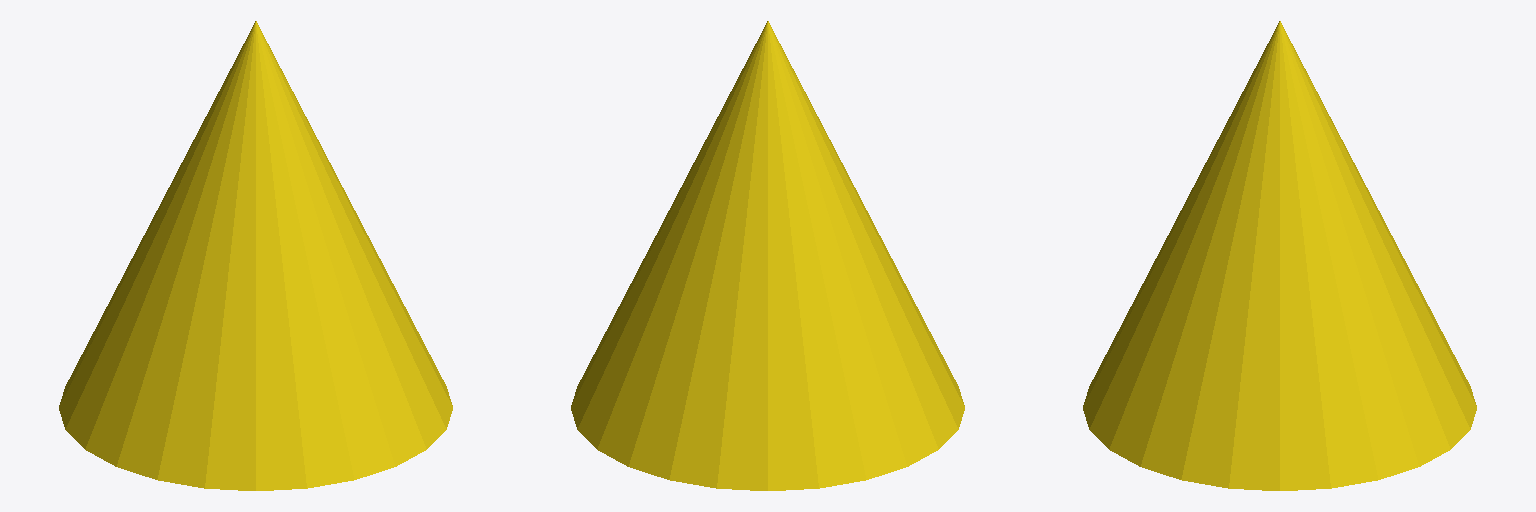
robot.urdf — yellow_cone:
<?xml version="1.0"?>
<robot name="yellow_cone">
  <link name="base_link">
    <contact>
      <lateral_friction value="0.9"/>
      <rolling_friction value="0.08"/>
      <spinning_friction value="0.06"/>
      <restitution value="0.0"/>
    </contact>
    <inertial>
      <origin rpy="0 0 0" xyz="0 0 0"/>
      <mass value="0.5"/>
      <inertia ixx="0.001" ixy="0" ixz="0" iyy="0.001" iyz="0" izz="0.001"/>
    </inertial>
    <visual>
      <origin rpy="0 0 0" xyz="0 0 0"/>
      <geometry>
        <mesh filename="cone.obj" scale="1 1 1"/>
      </geometry>
      <material name="yellow">
        <color rgba="0.950 0.850 0.120 1.000"/>
      </material>
    </visual>
    <collision>
      <origin rpy="0 0 0" xyz="0 0 0"/>
      <geometry>
        <mesh filename="cone.obj" scale="1 1 1"/>
      </geometry>
    </collision>
  </link>
</robot>

--- What the picture shows (computed from the rendered views, not written in the file) ---
Views: 3 orthographic renders of the robot side by side, from view 1: azimuth 30°, elevation 25°; view 2: azimuth 150°, elevation 25°; view 3: azimuth 270°, elevation 25°.
Robot: yellow_cone — 1 links, 0 joints (none); root link base_link; default pose: every joint at zero.
Links seen in each view (by area): view 1: base_link; view 2: base_link; view 3: base_link.
Link boxes in pixels (x1,y1,x2,y2): base_link: (59,21,452,490); base_link: (571,21,964,490); base_link: (1083,21,1476,490).
Size in the robot's own frame: 0.12 by 0.12 by 0.13 metres.
Meshes: 1 distinct files referenced, 1 mesh visuals loaded (1 OBJ).
